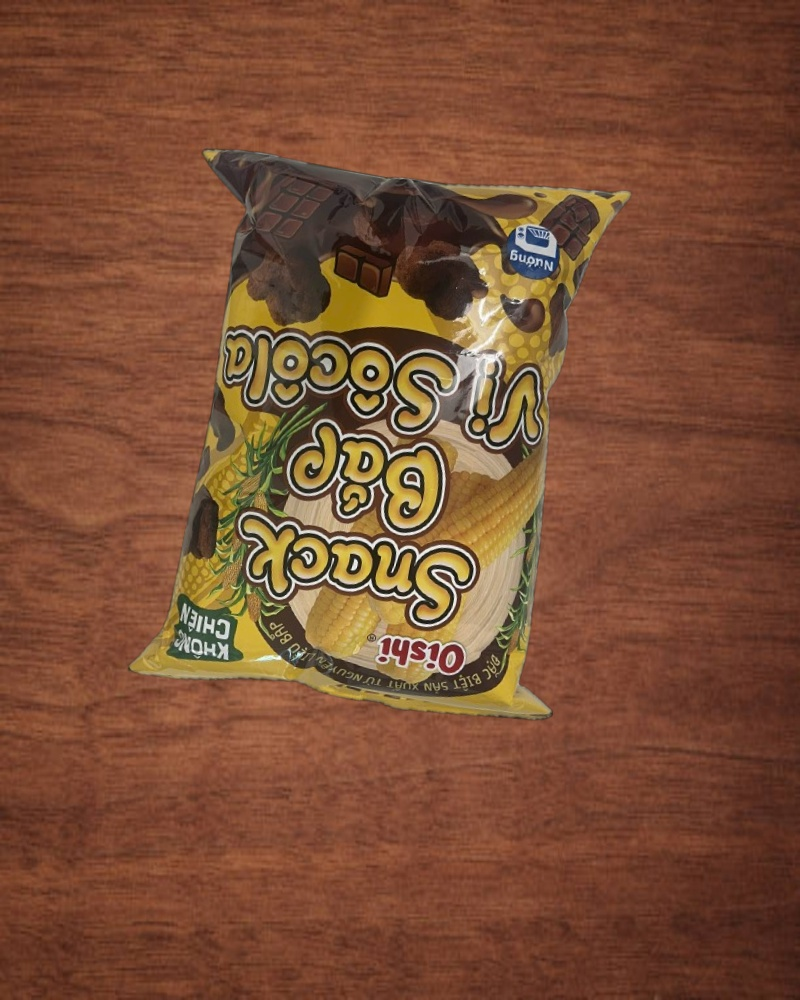Snack socola: (114, 121, 644, 745)
